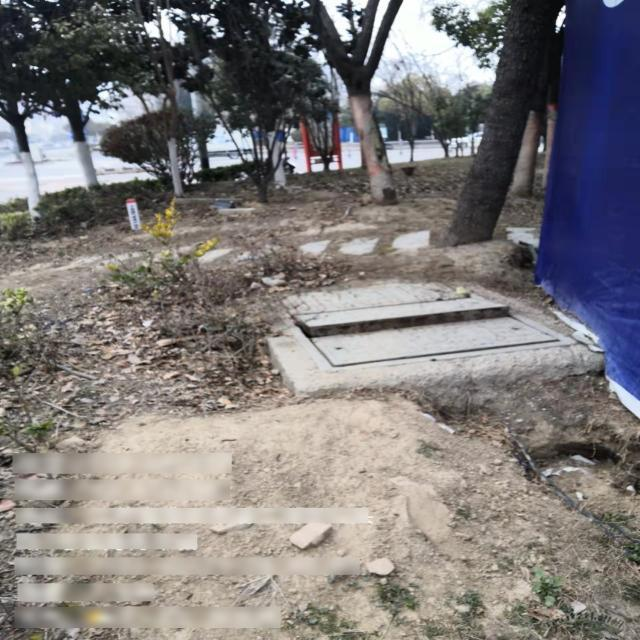Faulty: (277, 281, 580, 374)
